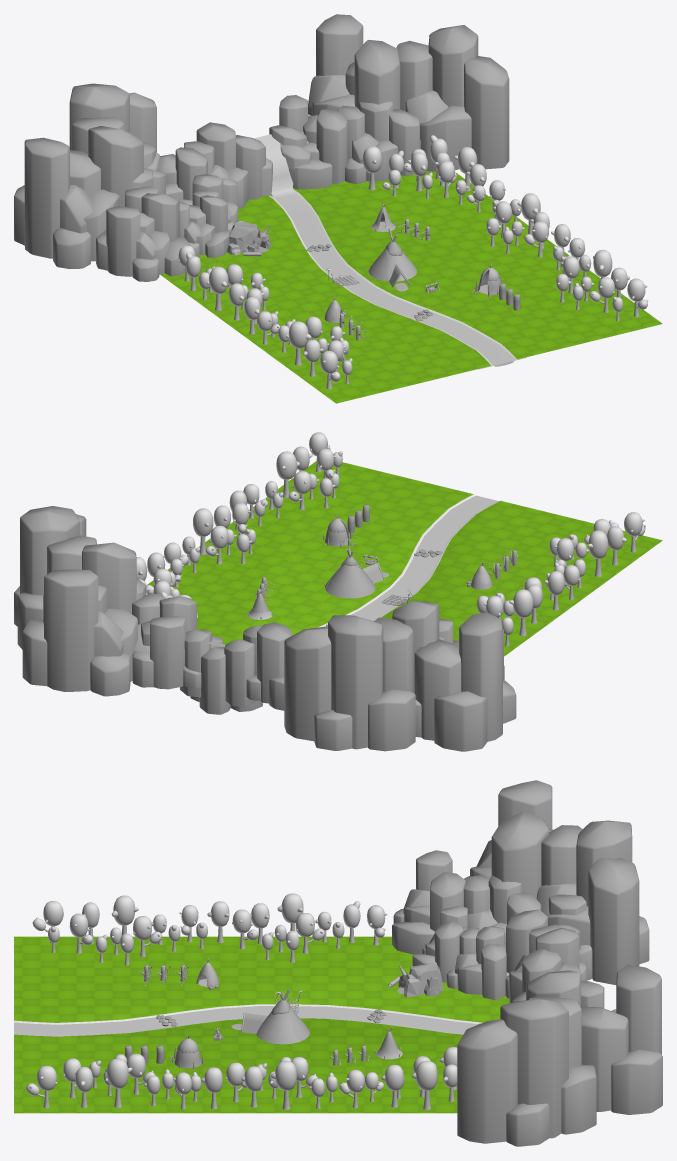
Rendered from Town (1).fbx.
The picture shows the model from 3 angles, top to bottom: view 1: azimuth 30°, elevation 25°; view 2: azimuth 150°, elevation 25°; view 3: azimuth 270°, elevation 25°; orthographic projection. The views are drawn at different scales.
Parts seen in each view (by area): view 1: Plane, Mount.002, Mount.005, Water.001, Treev2.010, Mount, Lvl1_House, Lvl1_GiantBarrack, Lvl1_WarriorBarrack, Lvl1_ArcherBarrack, Lvl1_GolemBarrack; view 2: Plane, Mount.002, Mount.005, Treev2.010, Water.001, Lvl1_House, Lvl1_ArcherBarrack, Lvl1_GolemBarrack, Treev3.017, Treev3.011, Lvl1_WarriorBarrack, Treev1.007 (+1 smaller); view 3: Plane, Mount.002, Mount.005, Treev2.010, Mount, Water.001, Lvl1_House, Lvl1_GiantBarrack, Lvl1_ArcherBarrack, Lvl1_WarriorBarrack, Lvl1_GolemBarrack, Treev3.006 (+6 smaller).
Part boxes in pixels (x1,y1,x2,y2): Plane: (160, 171, 662, 403); Mount.002: (14, 83, 311, 281); Mount.005: (279, 14, 509, 189); Water.001: (254, 134, 526, 369); Treev2.010: (199, 264, 352, 389); Mount: (179, 174, 237, 257); Lvl1_House: (368, 230, 417, 287); Lvl1_GiantBarrack: (227, 221, 271, 256); Lvl1_WarriorBarrack: (371, 202, 429, 240); Lvl1_ArcherBarrack: (324, 296, 368, 340); Lvl1_GolemBarrack: (471, 263, 503, 297); Plane: (147, 461, 662, 656); Mount.002: (180, 601, 516, 751); Mount.005: (14, 506, 201, 696); Treev2.010: (477, 512, 645, 646); Water.001: (208, 495, 497, 647); Lvl1_House: (325, 548, 384, 598); Lvl1_ArcherBarrack: (466, 549, 517, 589); Lvl1_GolemBarrack: (323, 514, 355, 547); Treev3.017: (276, 451, 299, 497); Treev3.011: (193, 508, 213, 554); Lvl1_WarriorBarrack: (247, 577, 274, 619); Treev1.007: (205, 525, 228, 564); Plane: (14, 936, 509, 1113); Mount.002: (392, 780, 649, 1002); Mount.005: (457, 964, 662, 1146); Treev2.010: (32, 893, 344, 965); Mount: (412, 905, 509, 999); Water.001: (14, 1006, 477, 1036); Lvl1_House: (241, 989, 309, 1044); Lvl1_GiantBarrack: (388, 963, 443, 997); Lvl1_ArcherBarrack: (137, 957, 219, 989); Lvl1_WarriorBarrack: (330, 1027, 402, 1065); Lvl1_GolemBarrack: (169, 1035, 203, 1068); Treev3.006: (411, 1060, 437, 1109).
Size of the model in its own units: 65.54 by 18.3 by 71.57.
